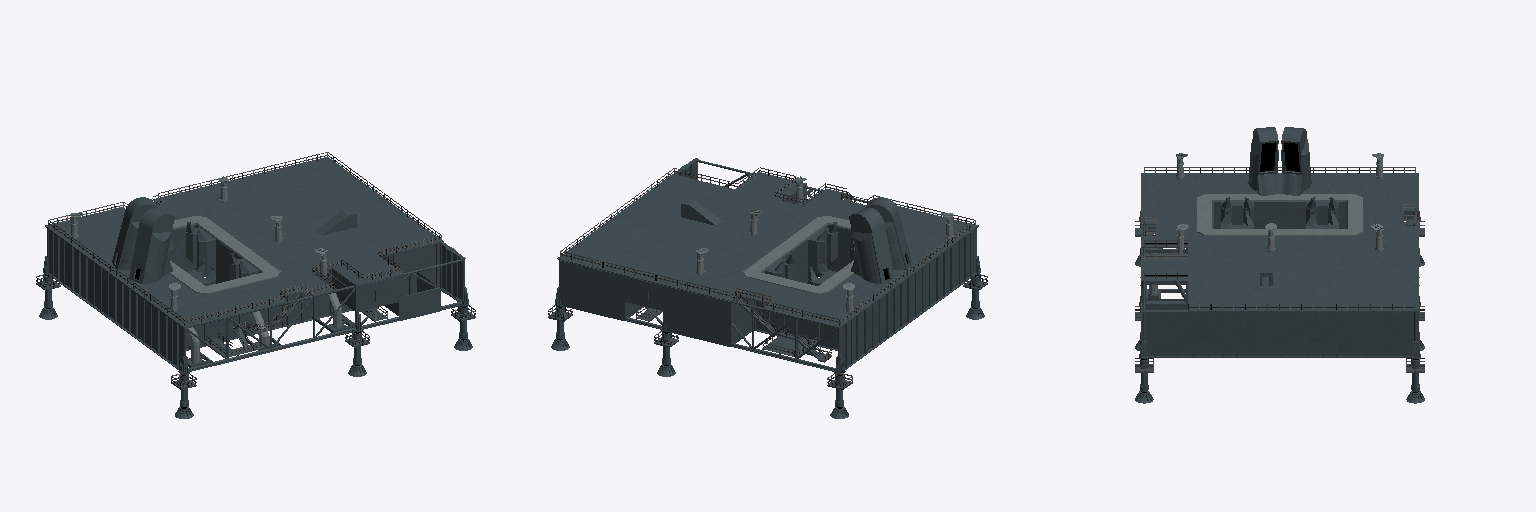
3 views of the same model, side by side, from view 1: azimuth 30°, elevation 25°; view 2: azimuth 150°, elevation 25°; view 3: azimuth 270°, elevation 25° (orthographic).
Visible parts, largest first — view 1: MLP_1_HP; view 2: MLP_1_HP; view 3: MLP_1_HP.
Boxes of the visible parts, <box> form: MLP_1_HP: <box>36,152,475,418</box>; MLP_1_HP: <box>548,158,987,418</box>; MLP_1_HP: <box>1135,127,1424,403</box>.
Size of the model in its own units: 102 by 49.65 by 86.72.
Materials: 2 (2 with a texture image).